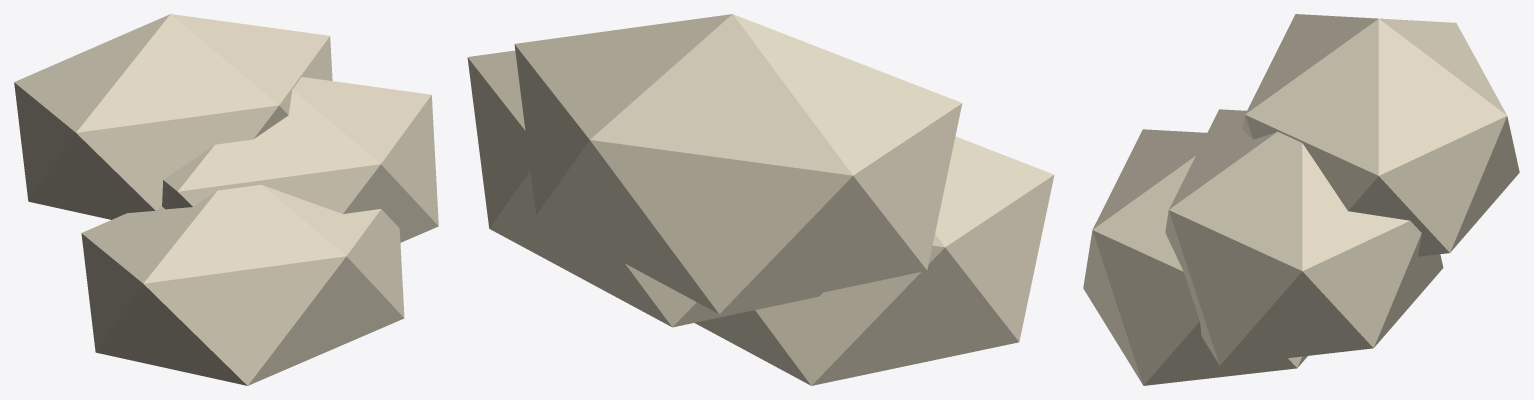
Rendered from item_071_wool_m.glb.
3 renders of one model, left to right at view 1: azimuth 30°, elevation 25°; view 2: azimuth 150°, elevation 25°; view 3: azimuth 270°, elevation 25°, orthographic. The views are drawn at different scales.
Visible parts, largest first — view 1: item_071_wool_m; view 2: item_071_wool_m; view 3: item_071_wool_m.
Part boxes in pixels (x1,y1,x2,y2): item_071_wool_m: [14, 14, 438, 385]; item_071_wool_m: [467, 14, 1054, 385]; item_071_wool_m: [1083, 14, 1519, 385].
Size of the model in its own units: 0.3808 by 0.2977 by 0.3431.
